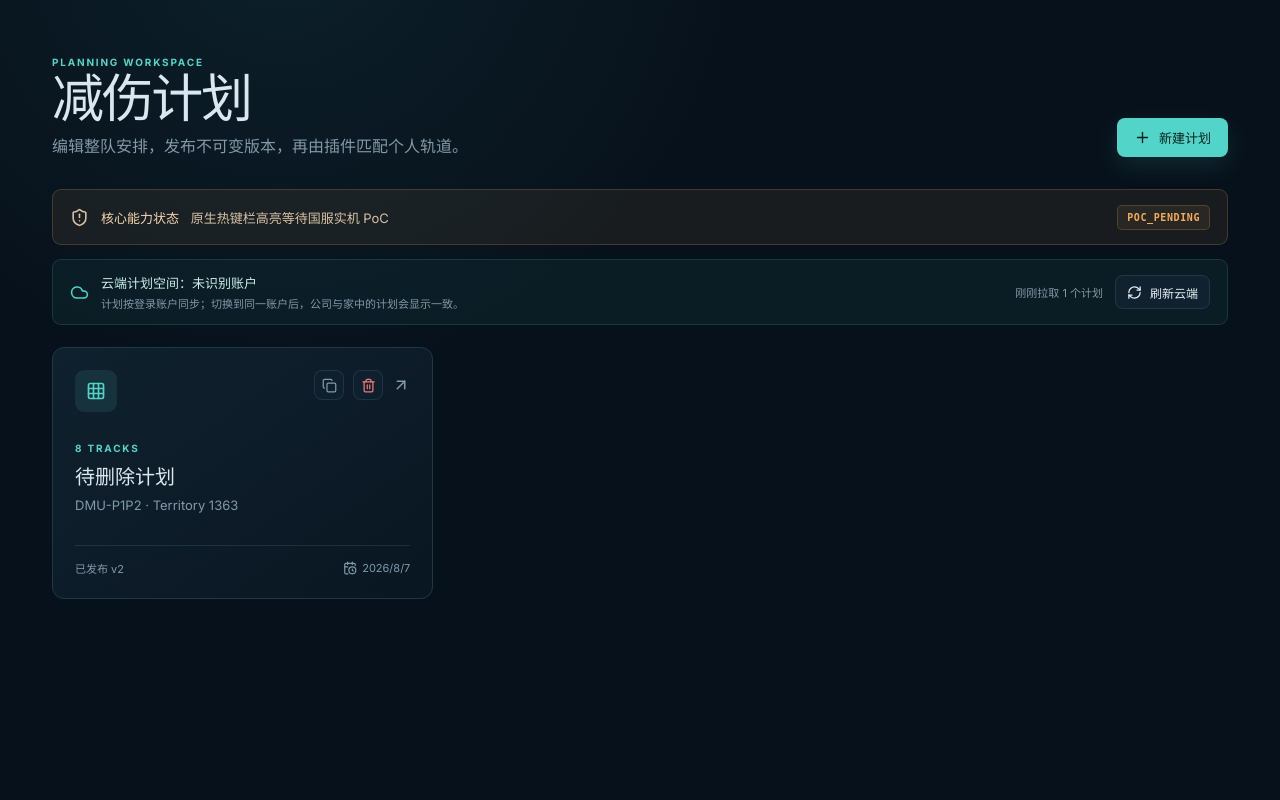
it: PlansView › deletes a cloud plan after confirmation
Click the button with class "danger" at (368, 385), box [353,370,383,400]
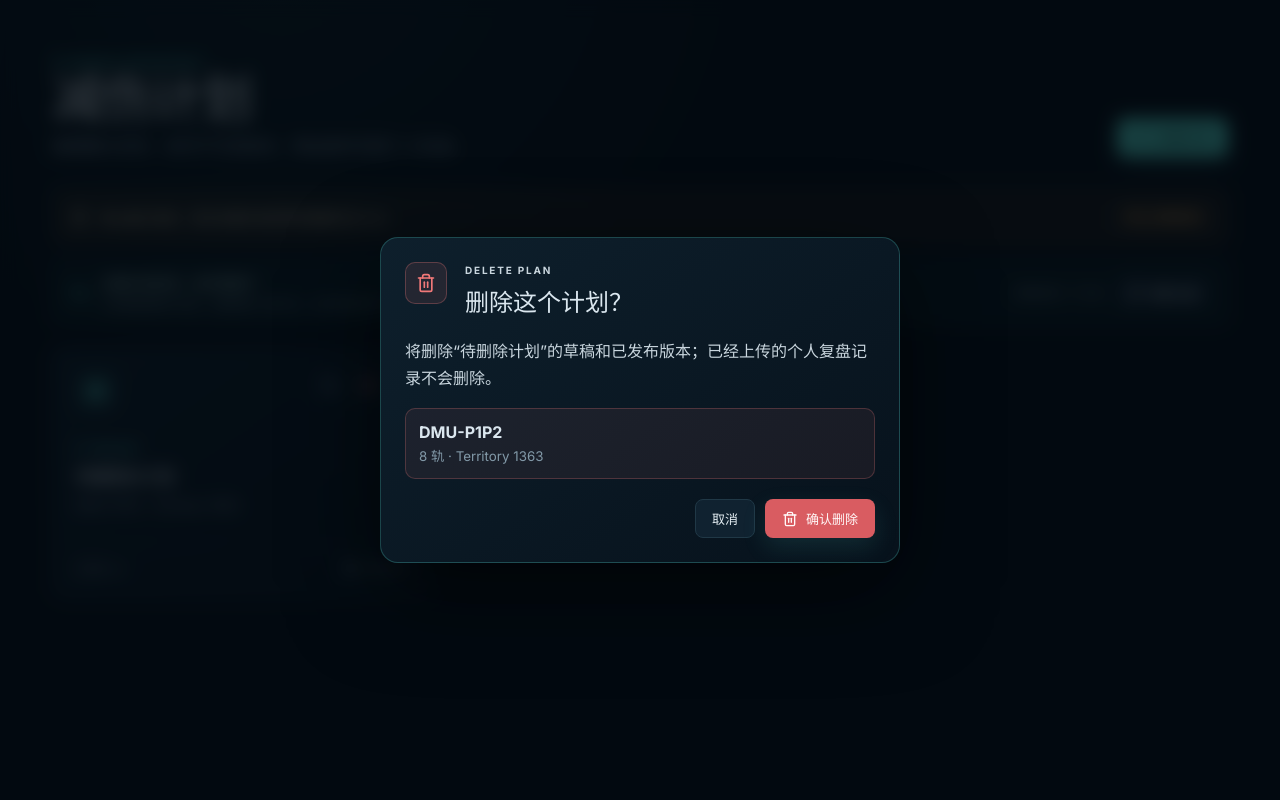
Expected: the element with class "delete-plan-dialog" shows "待删除计划", [405,341,867,388]
Click the button with class "delete-plan-confirm" at (820, 519), box [765,499,875,538]
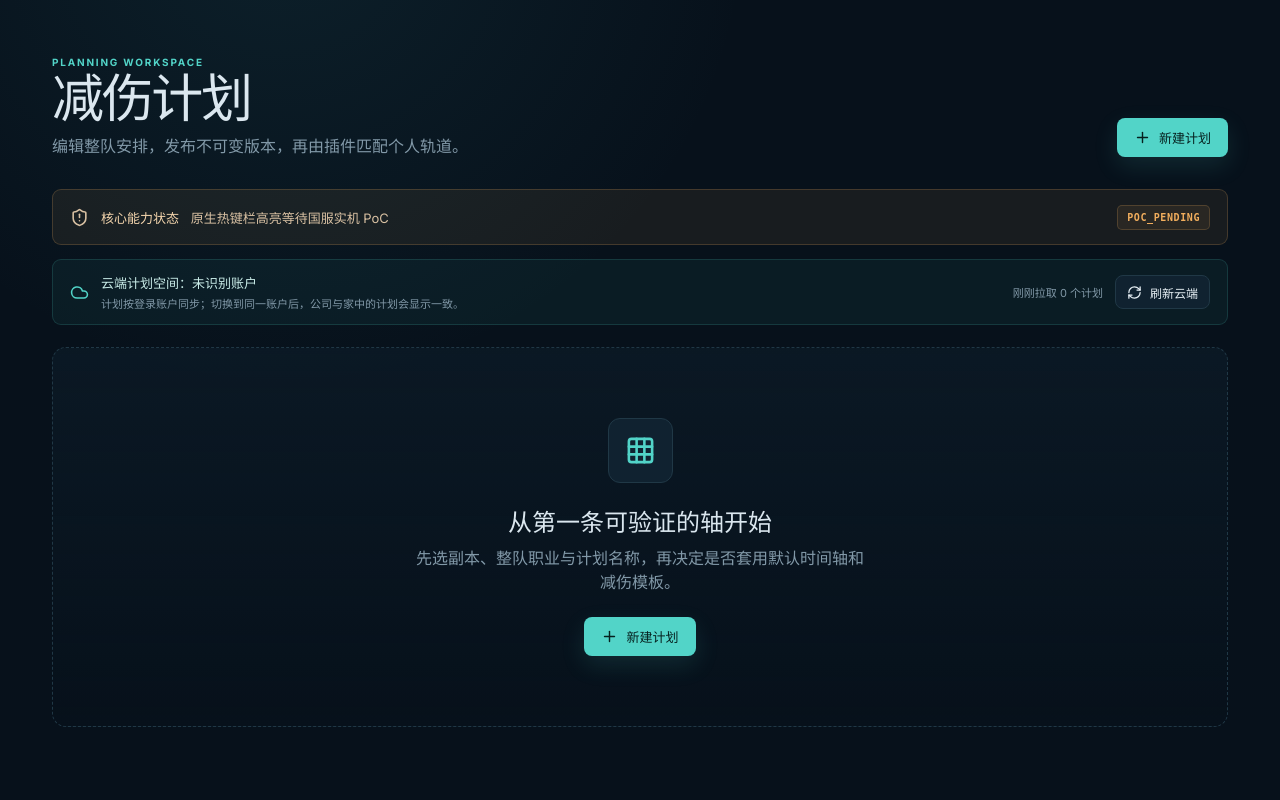
Expected: the text "待删除计划" is gone
